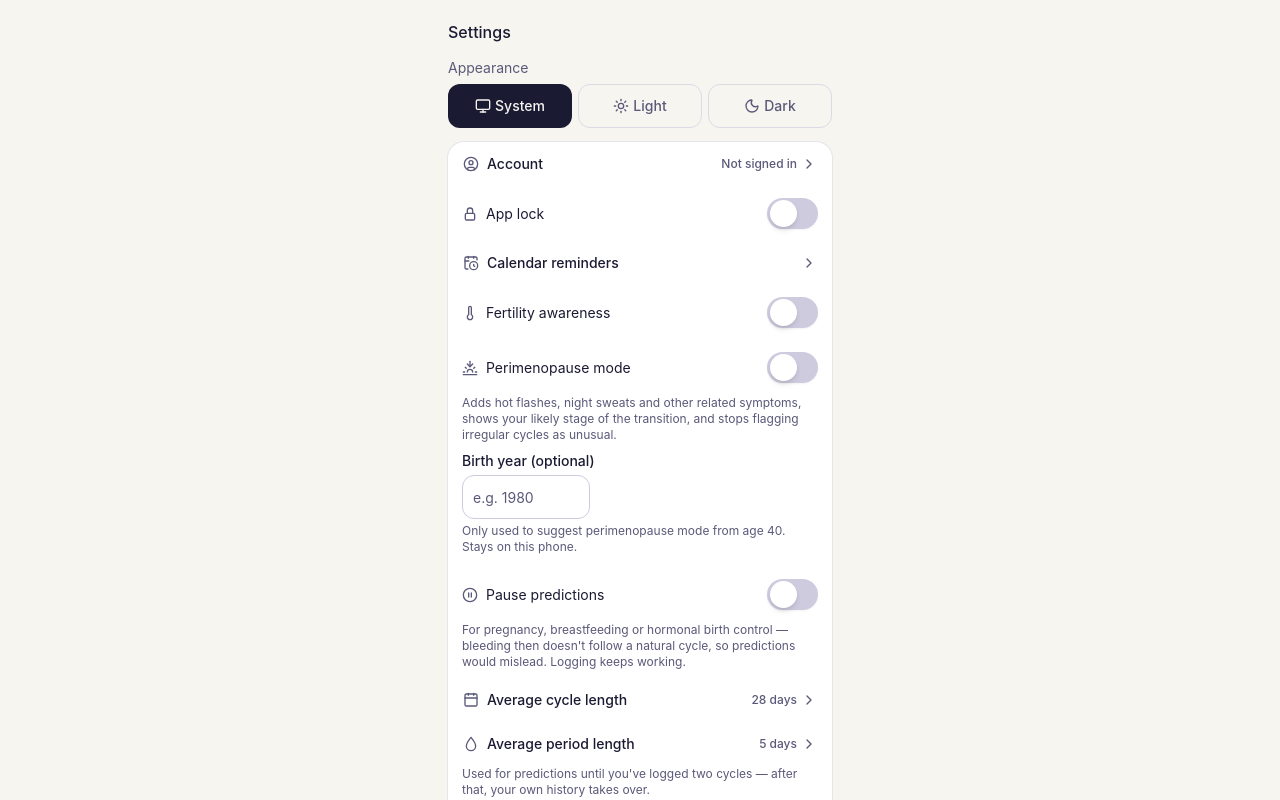
Calendar reminders → Notifications (T103) › asks to sign in first
Click the button "Calendar reminders" at (553, 262), box [448,241,832,285]
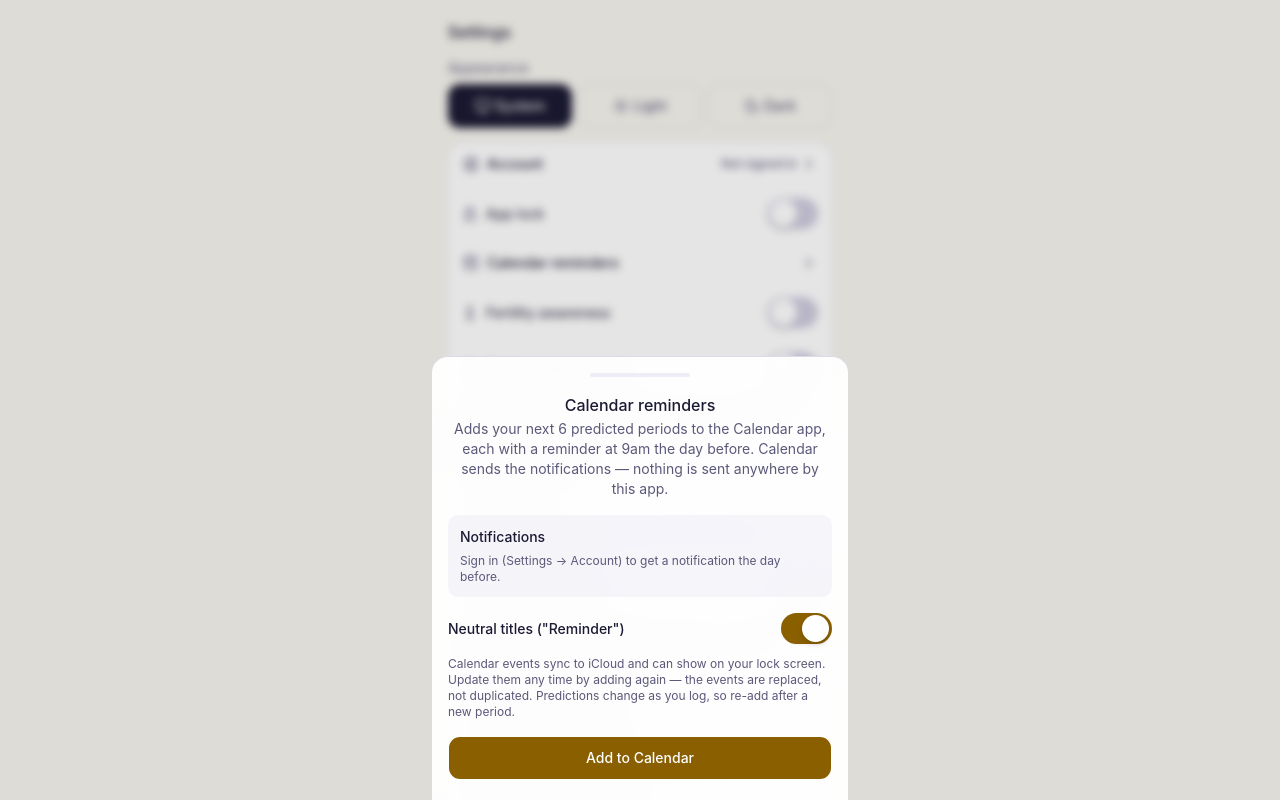
Expected: the text "Notifications" is shown, [460,528,545,545]
Expected: the text "Sign in (Settings → Account) to get a notification" is shown, [460,553,780,584]
